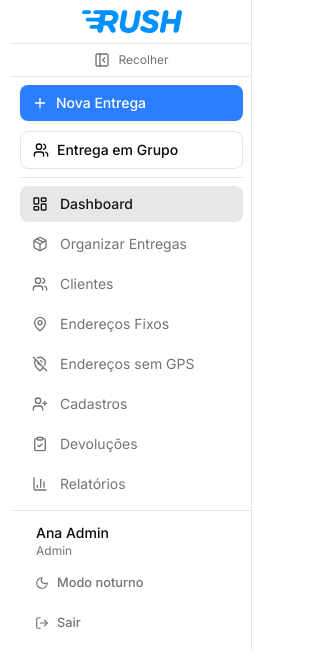
Scenario: SidebarNav › collapses on click, hides labels, and persists the preference
This screenshot has width=332, height=668.
Expected: the text "Ana Admin" is shown, [36,524,109,541]
What coordinates should you click on to do the following:
click the button titled "Recolher menu"
I would click on:
 (132, 60)
Its box is [12,44,251,77].
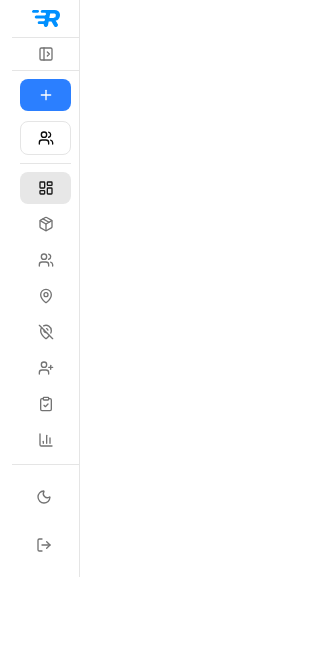
Now the text "Ana Admin" is gone
Now the button titled "Expandir menu" is shown, box [12,38,79,71]
